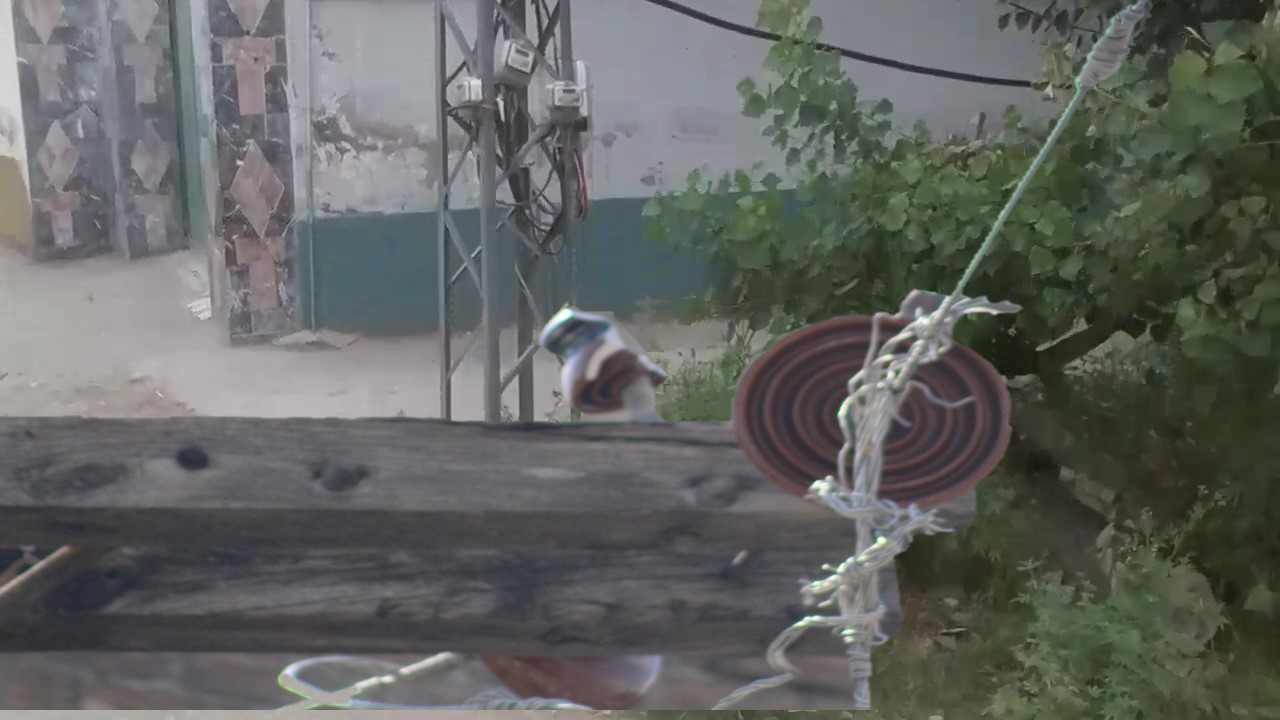defect_pin: (534, 296, 667, 422)
insulator_disc: (729, 303, 1026, 511)
